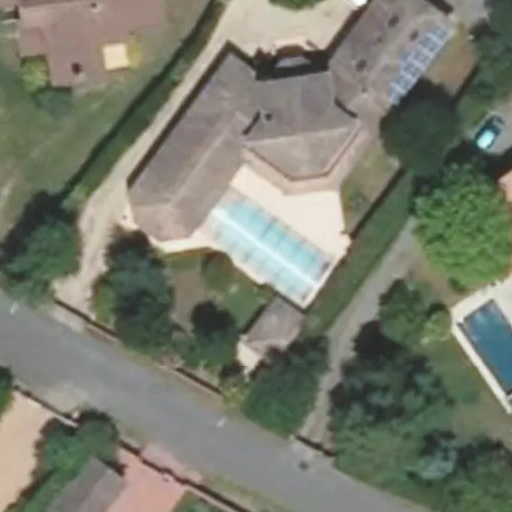pool: (201, 229, 309, 255)
